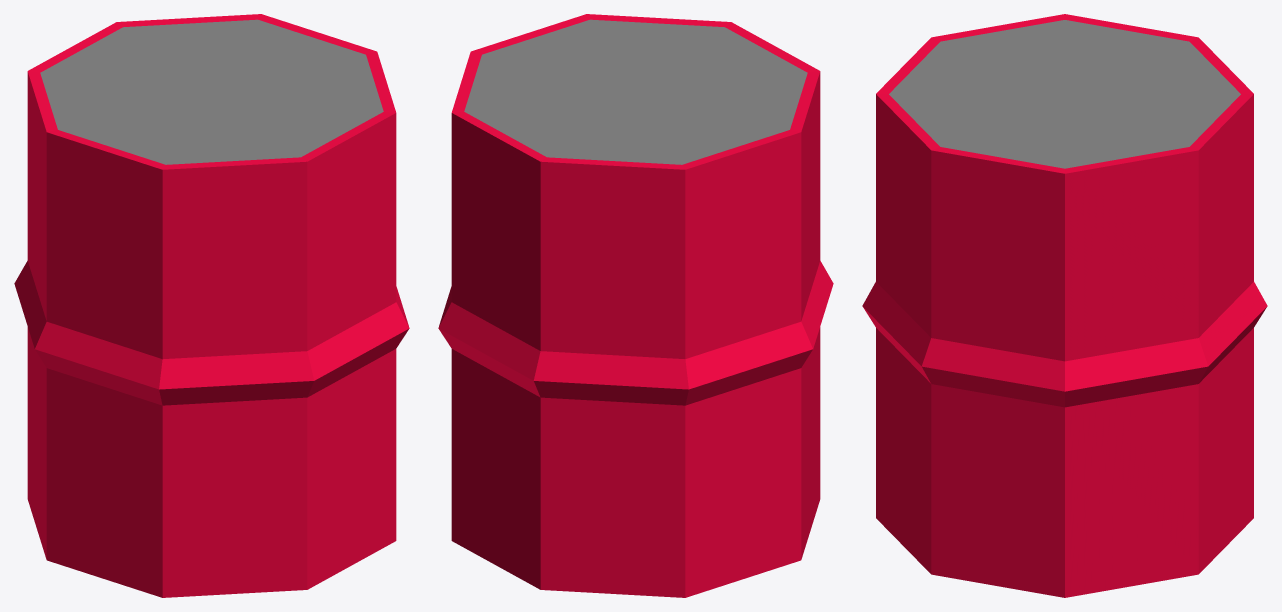
The model's file is BarellRED.fbx.
3 renders of one model, left to right at view 1: azimuth 30°, elevation 25°; view 2: azimuth 150°, elevation 25°; view 3: azimuth 270°, elevation 25°, orthographic.
Visible parts, largest first — view 1: Cube.001; view 2: Cube.001; view 3: Cube.001.
Part boxes in pixels (x1,y1,x2,y2): Cube.001: [14, 14, 409, 597]; Cube.001: [438, 14, 833, 597]; Cube.001: [862, 14, 1267, 597].
Bounding box in the file's own units: 83.18 × 96.04 × 83.18.
